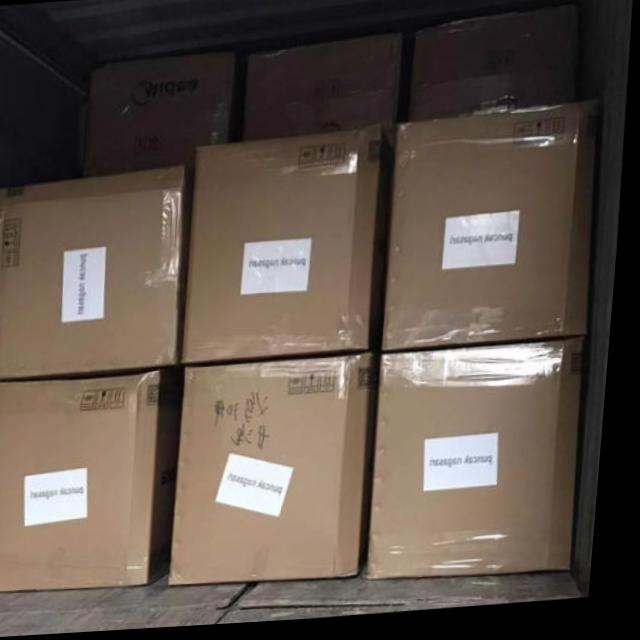box: (389, 110, 604, 356), (372, 345, 592, 583), (188, 130, 399, 369), (177, 355, 379, 588), (0, 374, 190, 593), (0, 167, 192, 380), (409, 10, 580, 131), (81, 55, 238, 180), (245, 40, 403, 145)
